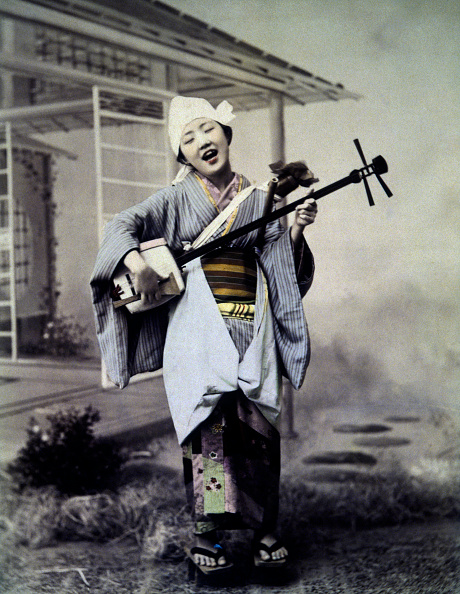em pe: (95, 80, 330, 559)
